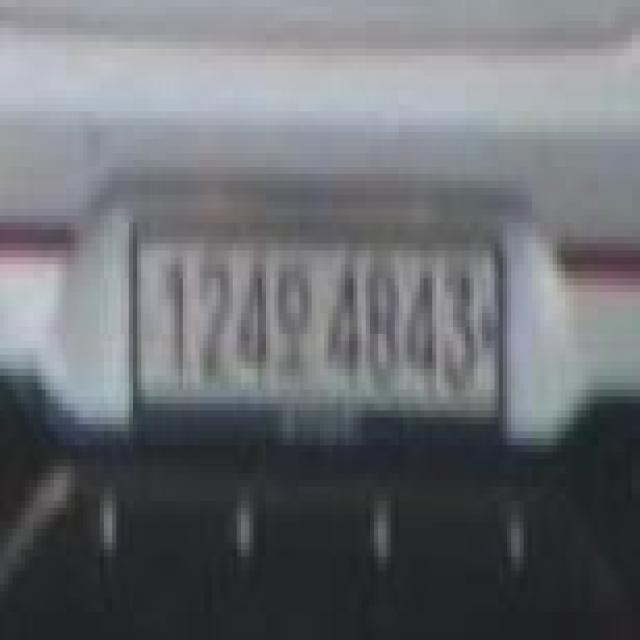illegal_plate: (126, 211, 516, 453)
